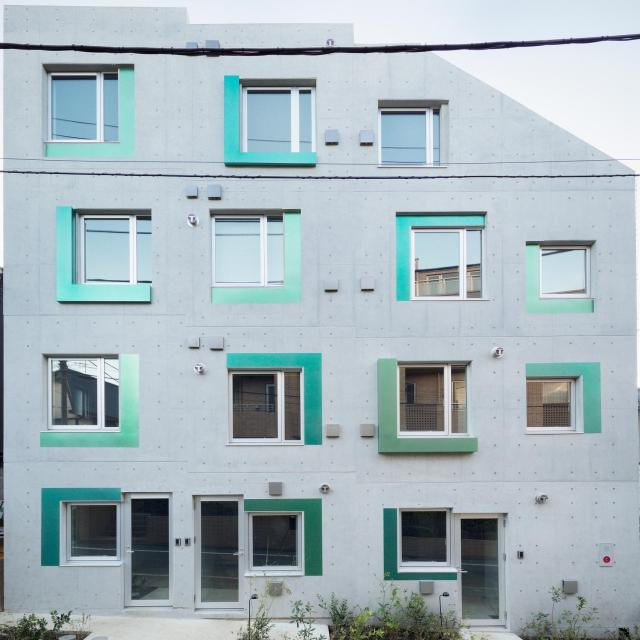door: (398, 508, 503, 619), (197, 496, 304, 603), (65, 490, 170, 598)
plant: (317, 580, 464, 640), (0, 607, 74, 640)
wall: (0, 0, 635, 636)
windows: (412, 223, 484, 301), (78, 208, 150, 283), (213, 209, 281, 287), (46, 352, 117, 425), (45, 68, 116, 139), (229, 366, 298, 439), (244, 82, 312, 154), (397, 361, 464, 430), (378, 105, 438, 162), (539, 240, 588, 296), (524, 376, 573, 426)
